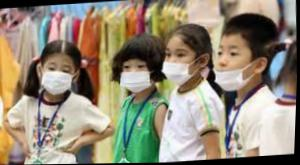OK: (120, 58, 157, 95), (43, 60, 79, 93)
WRONG: (213, 39, 261, 89), (163, 44, 201, 85)
